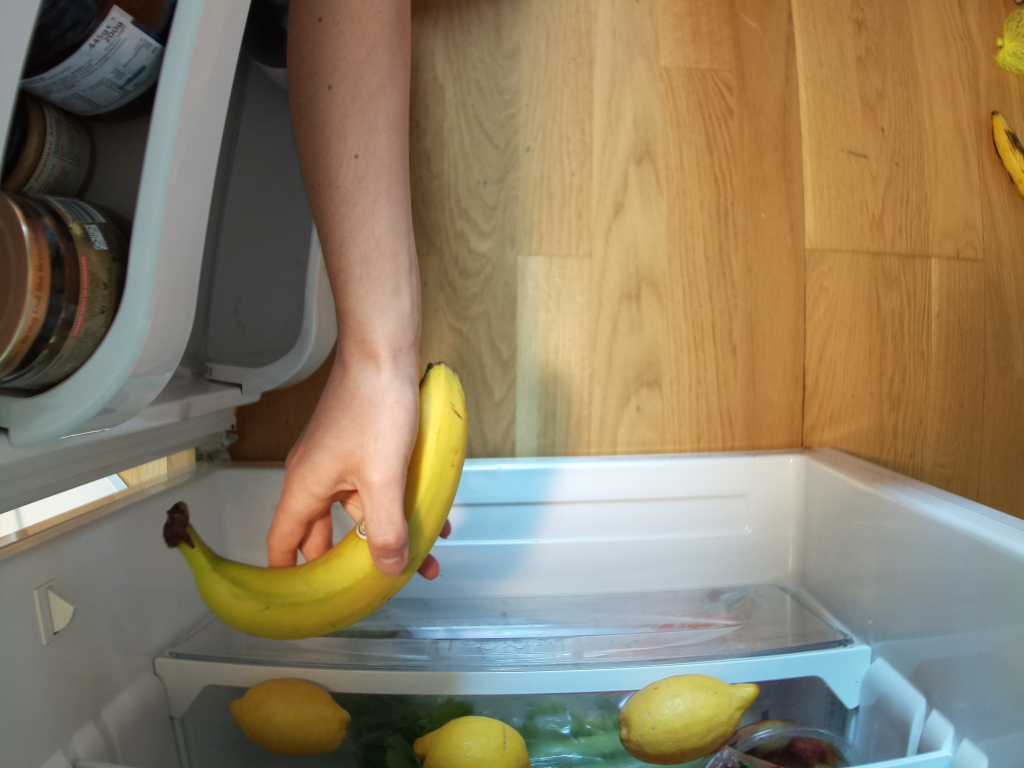banana-unripe: (166, 359, 466, 638)
